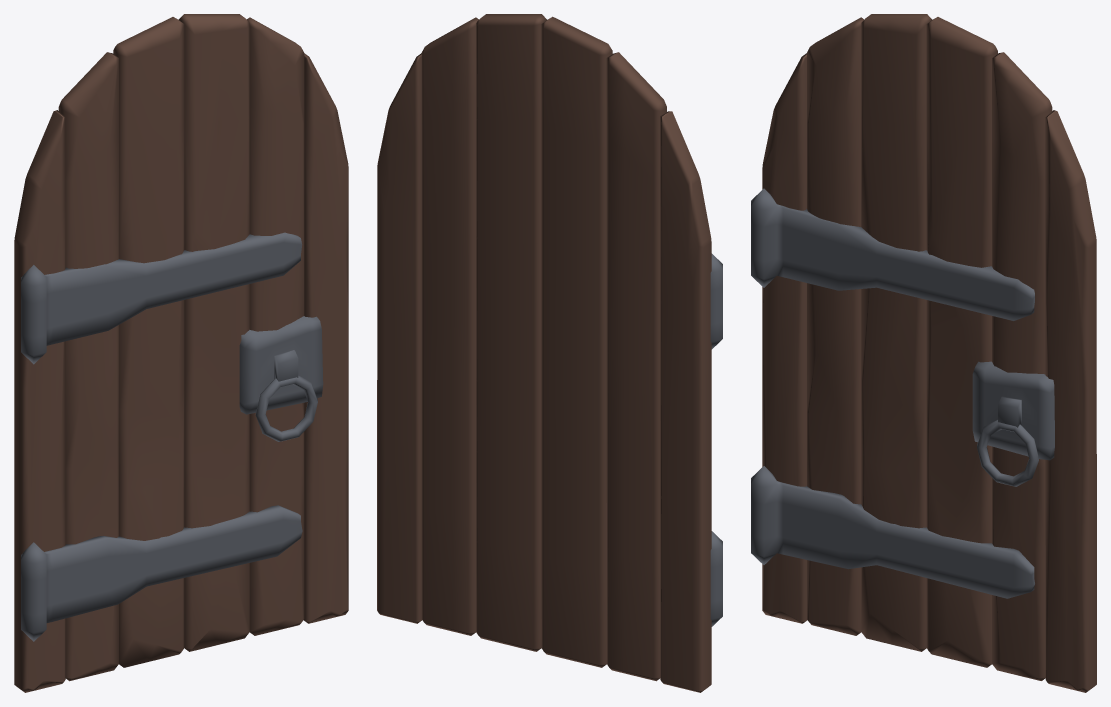
File: door.fbx
The picture shows the model from 3 angles, left to right: view 1: azimuth 30°, elevation 25°; view 2: azimuth 150°, elevation 25°; view 3: azimuth 330°, elevation 25°; orthographic projection.
Parts seen in each view (by area): view 1: door_main, door_handle; view 2: door_main; view 3: door_main, door_handle.
Part boxes in pixels (x1,y1,x2,y2): door_main: [14, 14, 348, 692]; door_handle: [255, 375, 317, 441]; door_main: [377, 14, 722, 692]; door_main: [751, 14, 1096, 692]; door_handle: [977, 420, 1038, 486].
Size of the model in its own units: 123 by 223 by 14.63.
